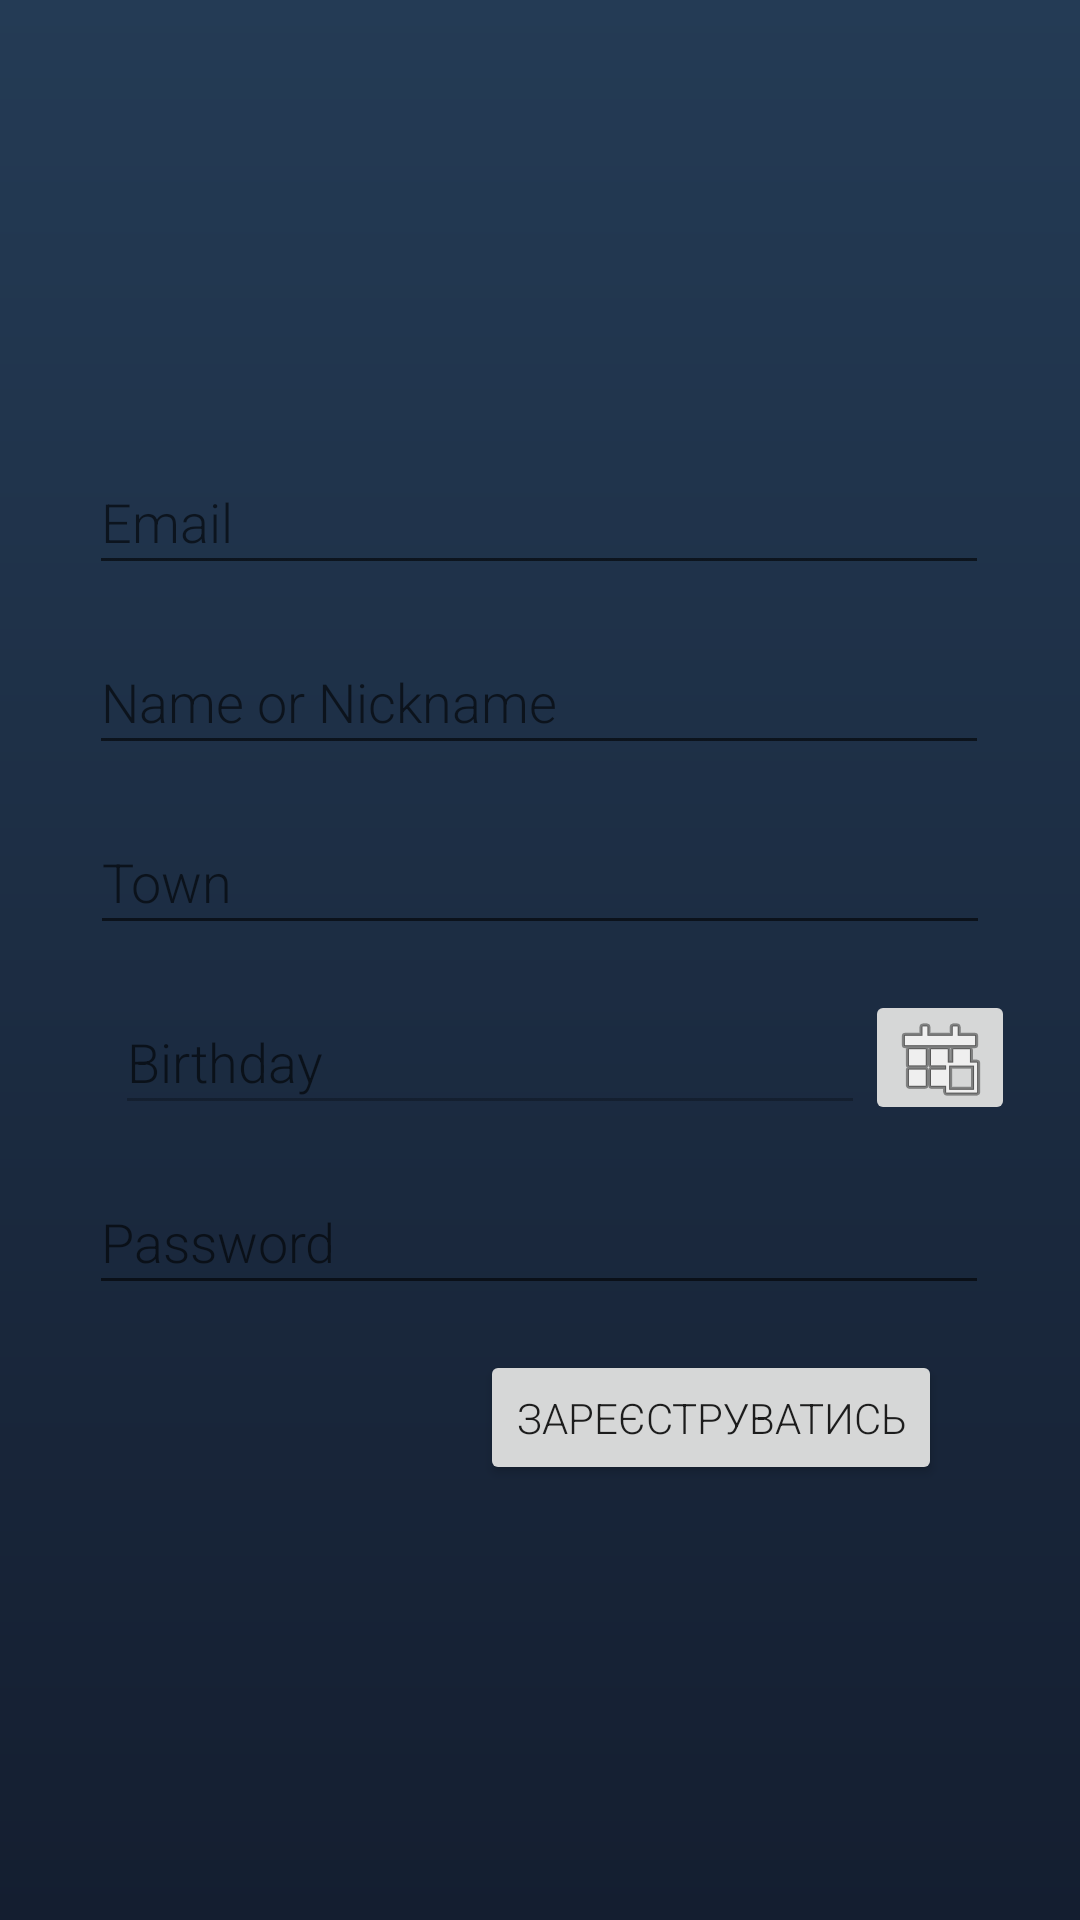

Locate icon controls on the screen. Image size 1080px x 1920px, boxes as bbox=(x1, y1, x2, y2).
today: bbox=(877, 1008, 1003, 1107)
